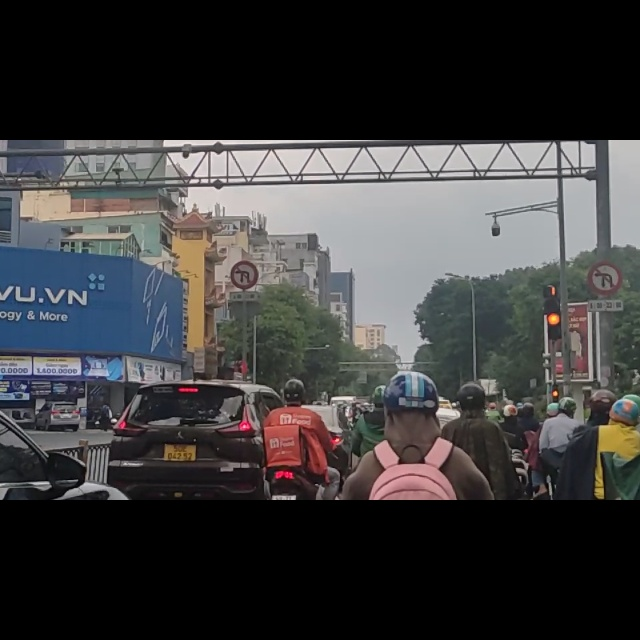bien_cam: (587, 216, 623, 275), (231, 217, 261, 267)
